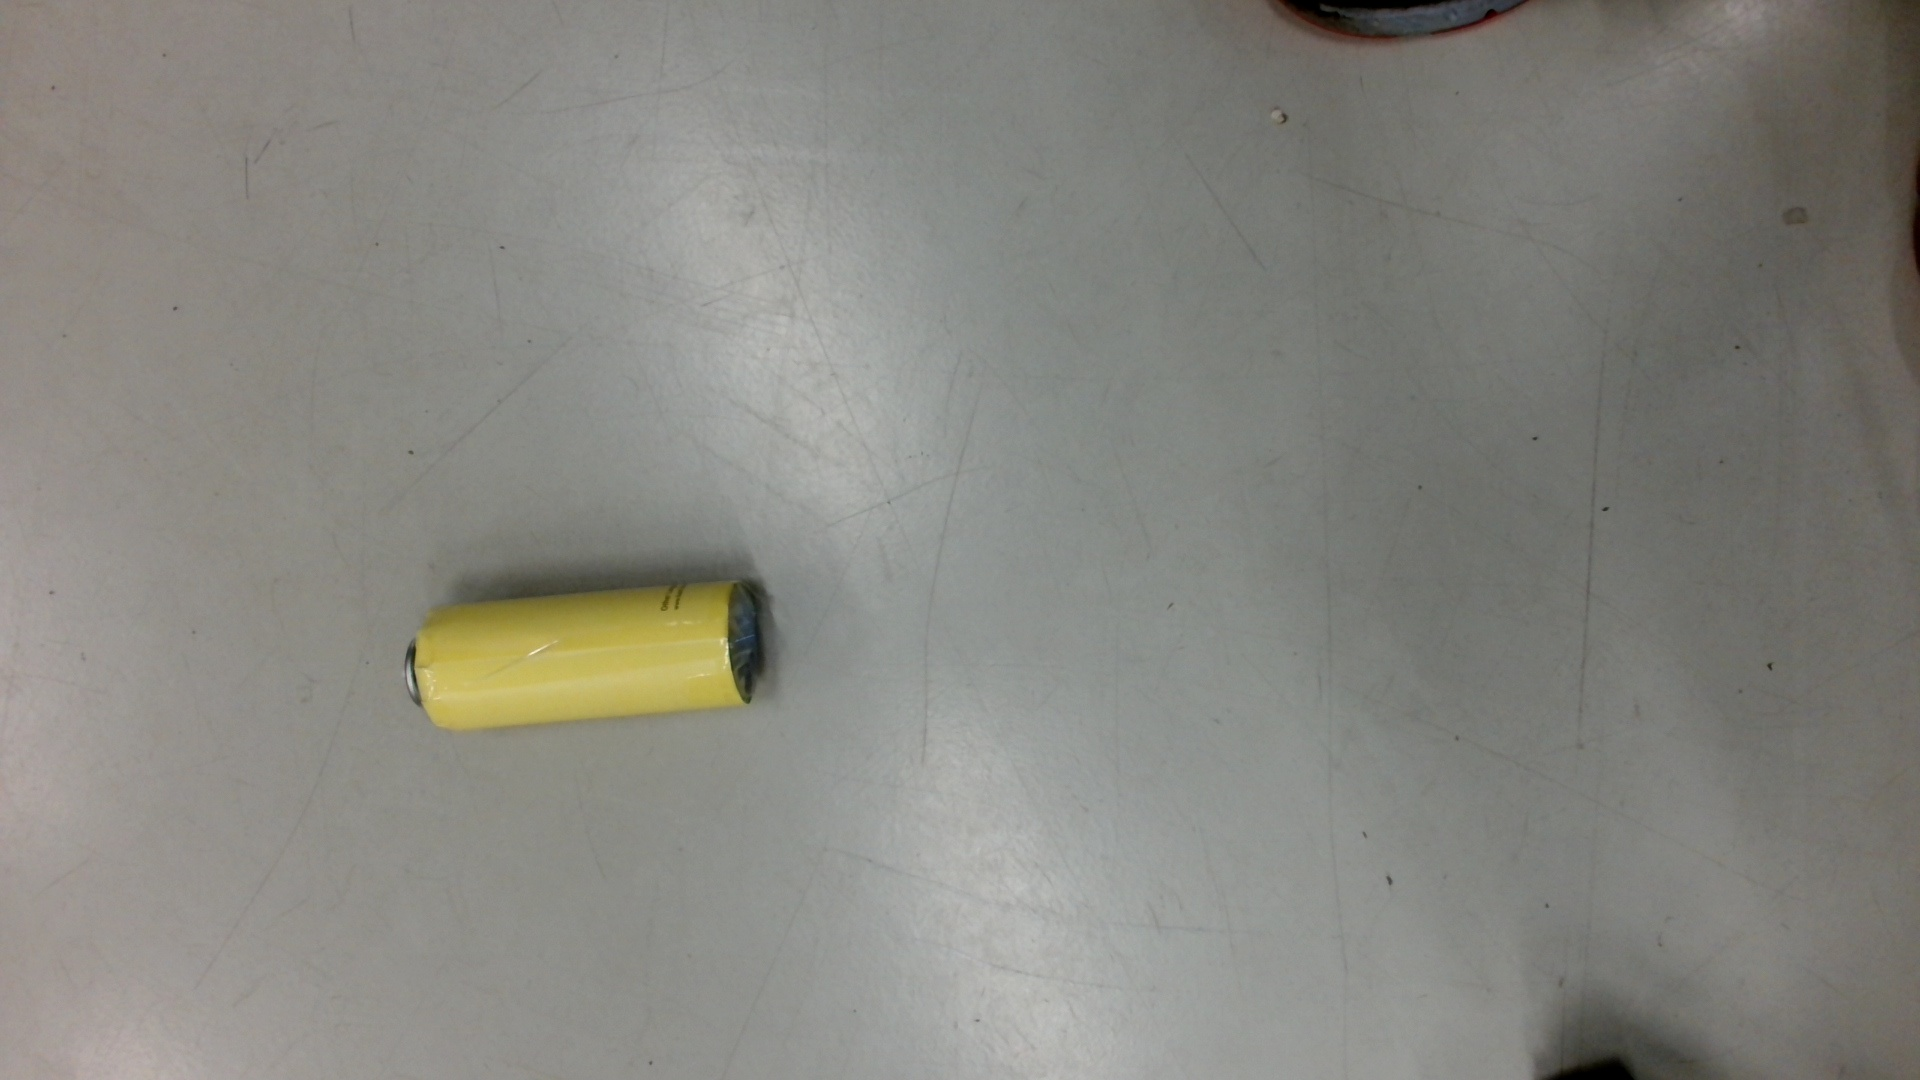Cylinder: (392, 568, 782, 744)
